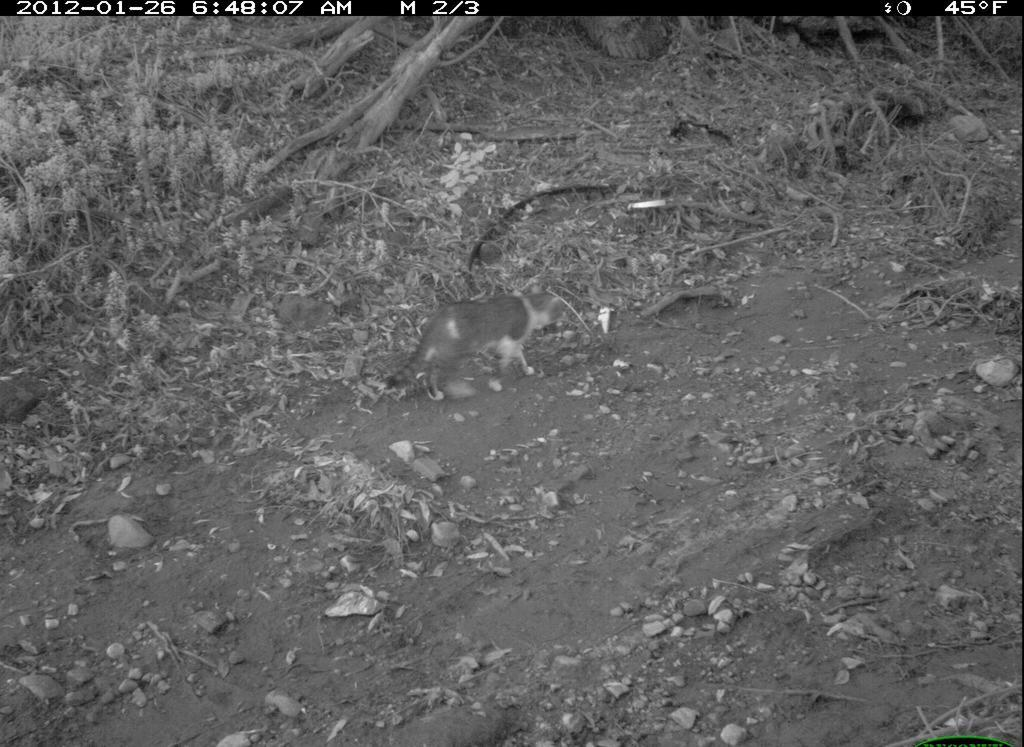cat: (385, 286, 570, 404)
